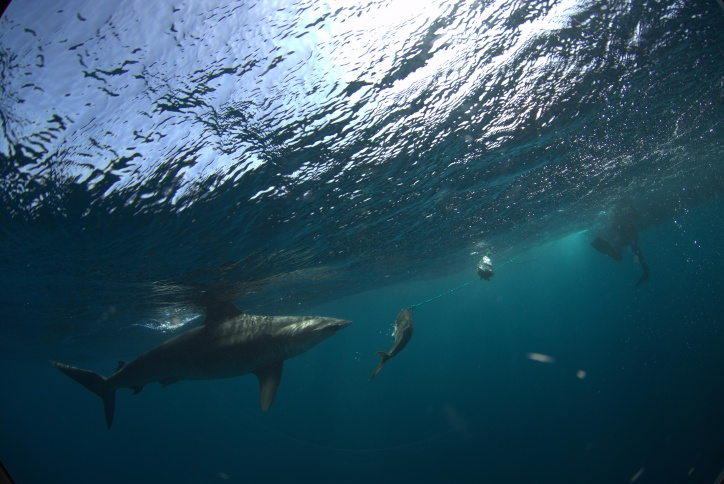Hammer: (35, 265, 365, 448)
